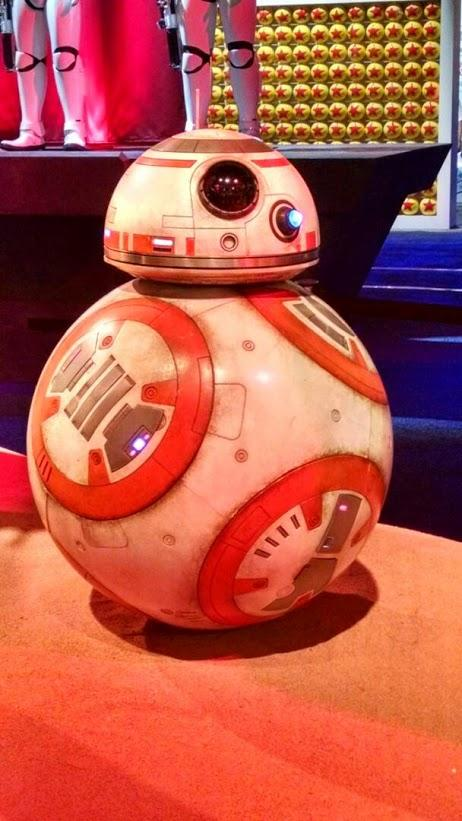bb8: (26, 127, 394, 631)
